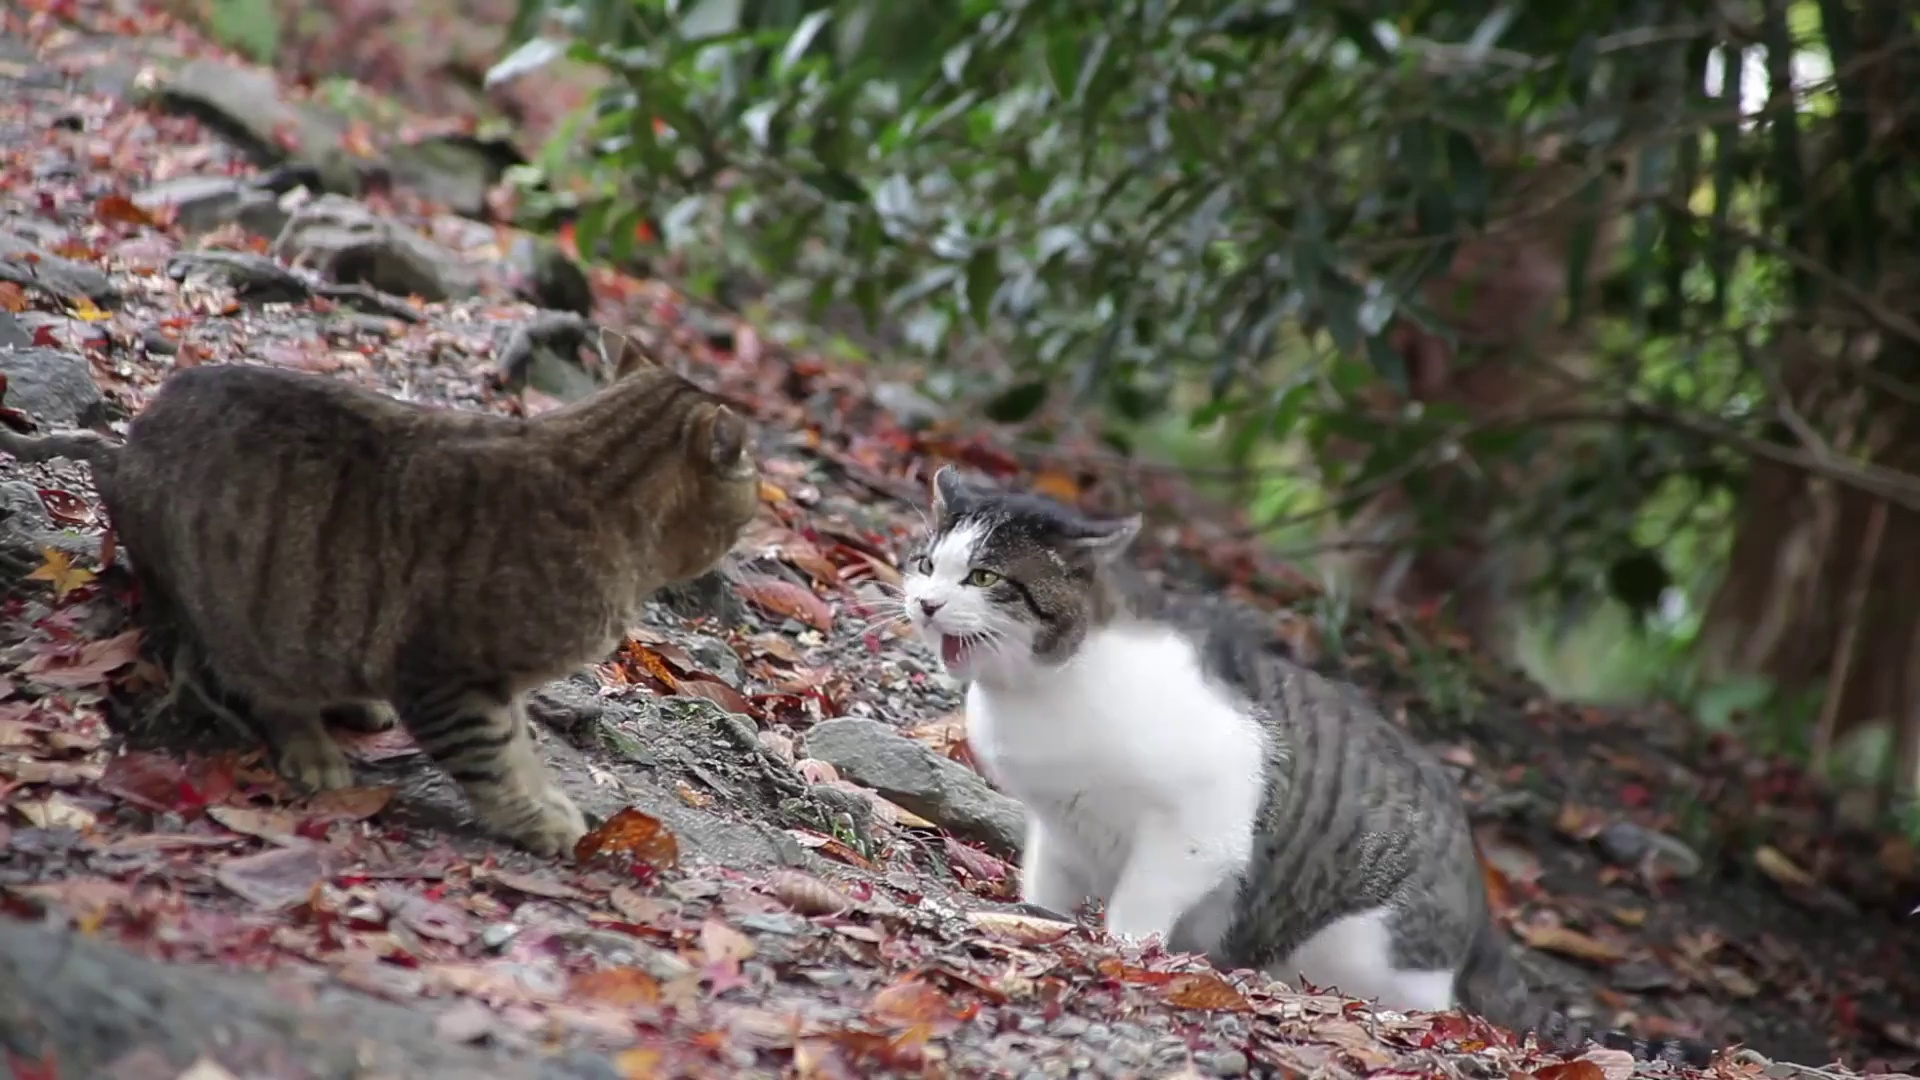black-white: (903, 462, 1491, 1009)
pure black: (117, 326, 761, 864)
